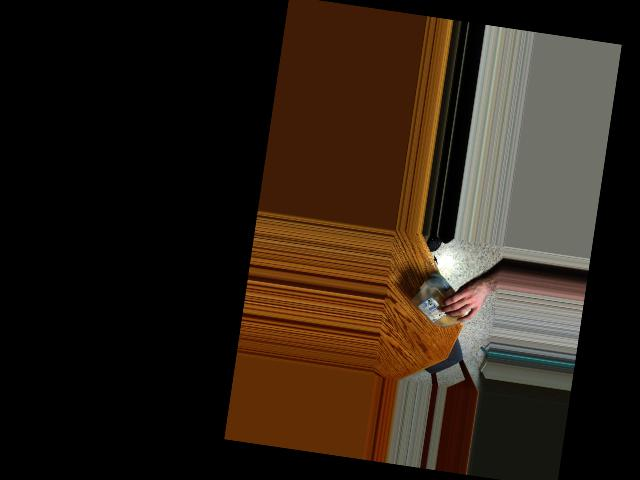cheese: (407, 272, 480, 334)
